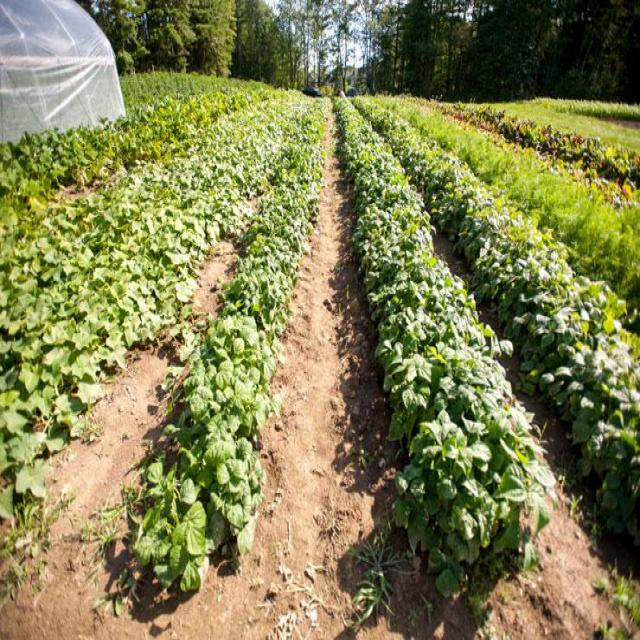row: (0, 118, 301, 640), (347, 99, 623, 521), (220, 96, 428, 640)
